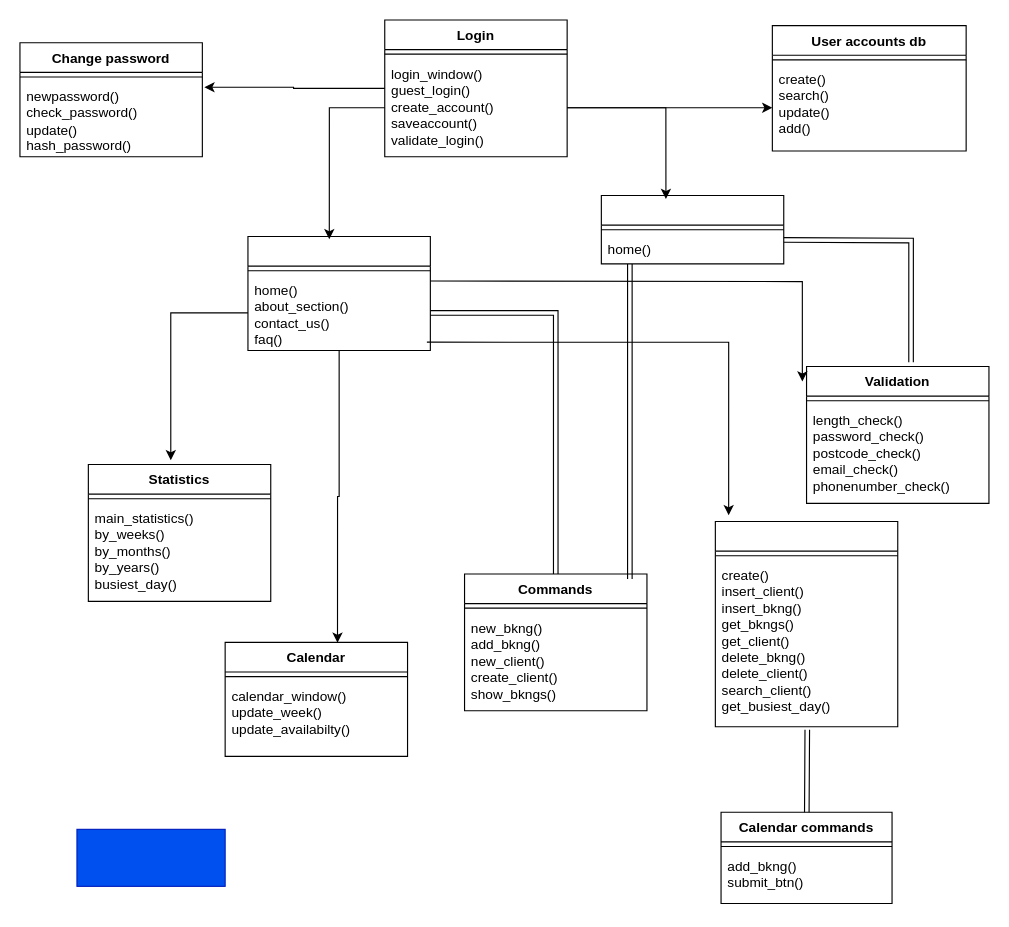
Image size: 1009x927. Some labels were removed from this diagram. The shapes that lost their labels are listed below. From the top down, each one's box as (x1, y1, x2, y2) in pixels, then its label:
(600, 194, 784, 264): User Main menu
(247, 235, 430, 351): Main menu
(714, 520, 898, 727): Calendar db
(76, 828, 225, 886): KEY: bkng - booking
